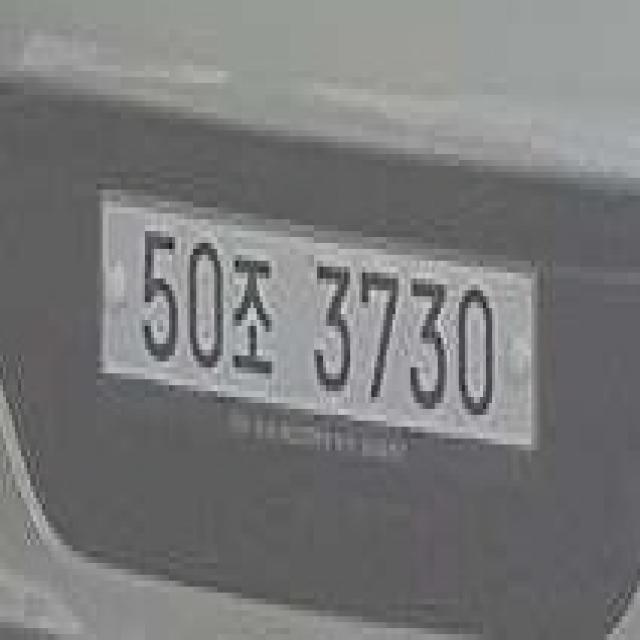0: (456, 283, 500, 424), (184, 234, 226, 376)
3: (406, 263, 452, 421), (310, 254, 352, 398)
5: (136, 217, 182, 369)
7: (358, 256, 401, 412)
jo: (230, 247, 278, 388)
license_plate: (90, 164, 550, 486)
